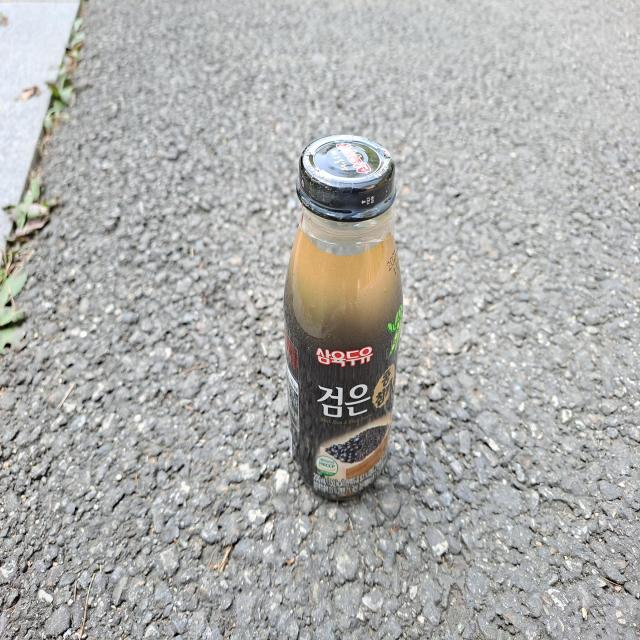glass: (284, 134, 403, 500)
